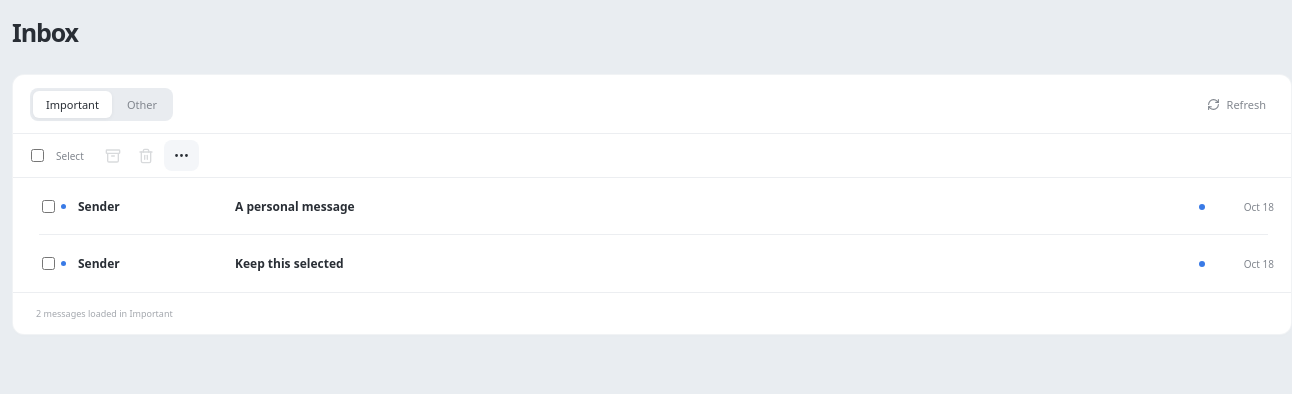
Scenario: personal Outlook reader › keeps failed bulk selections and offers Undo for successful moves
The width and height of the screenshot is (1292, 394).
Click the checkbox named "Select loaded messages" at (38, 156), box top-left (31, 149), bottom-right (44, 162)
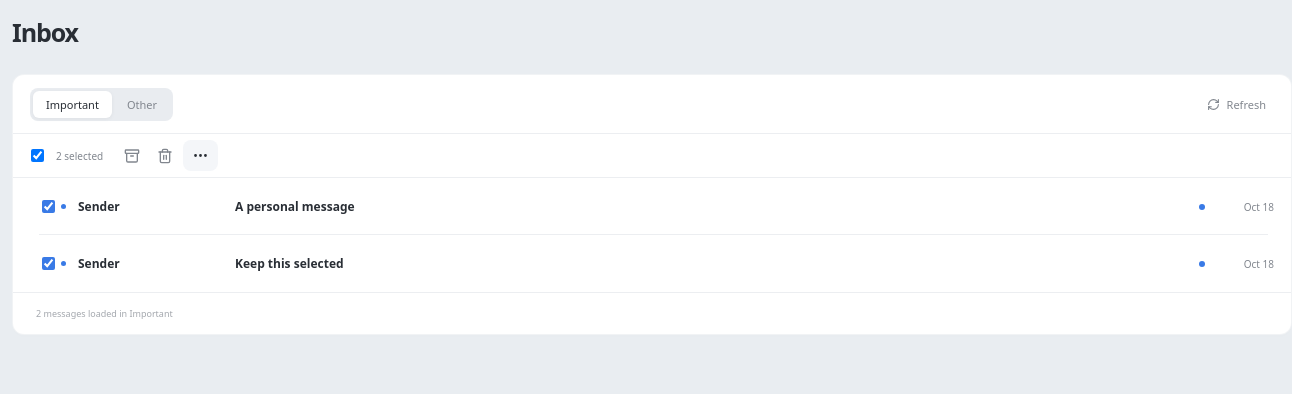
Click the button named "Archive" at (132, 156), box top-left (117, 140), bottom-right (147, 170)
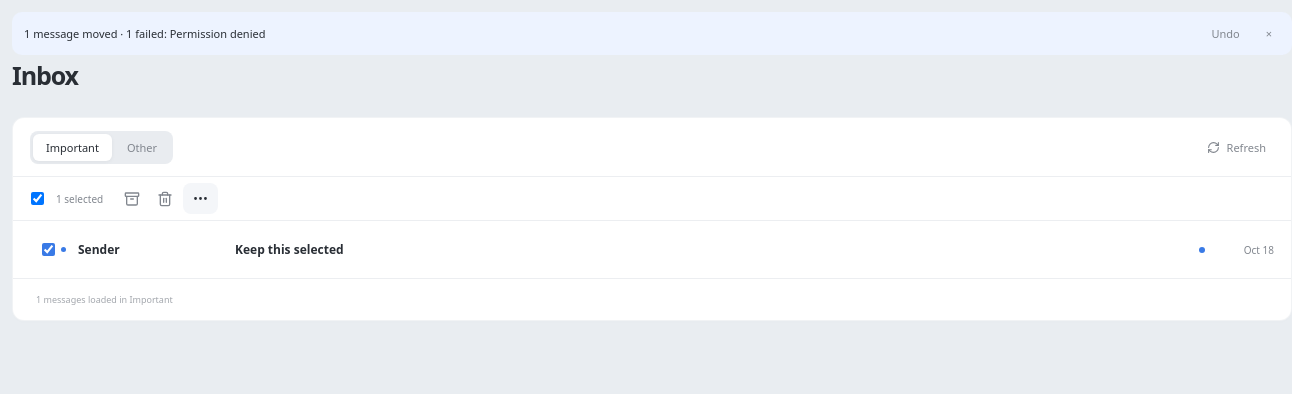
expect the checkbox with class "row-check" is checked: met, box top-left (42, 243), bottom-right (55, 256)
expect the number of elements with class "mail-row" is 1: met, box top-left (13, 221), bottom-right (1291, 278)
expect the text "Permission denied" is shown: met, box top-left (24, 26), bottom-right (266, 41)
Click the button "Undo" at (1226, 34), box top-left (1203, 20), bottom-right (1248, 47)
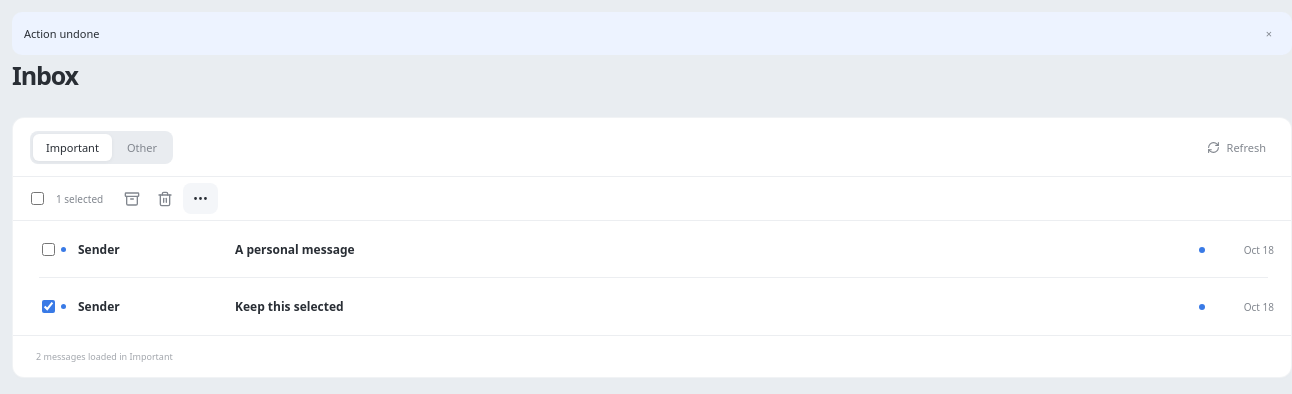
expect the number of elements with class "mail-row" is 2: met, box top-left (13, 221), bottom-right (1291, 278); top-left (13, 278), bottom-right (1291, 335)
